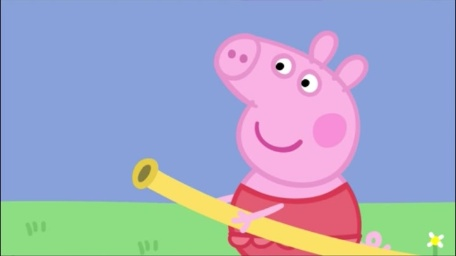Peppa: (213, 31, 370, 256)
